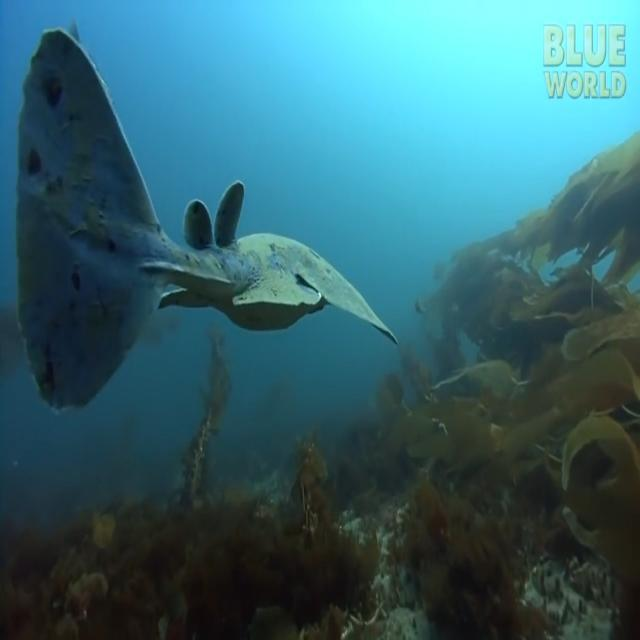Torpedo -Electrical-: (18, 31, 396, 414)
